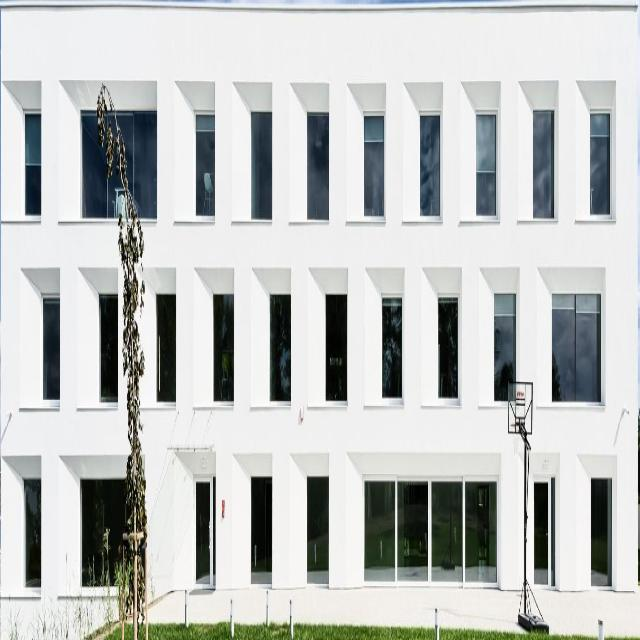door: (194, 475, 218, 591), (533, 477, 556, 591)
plant: (109, 96, 146, 619)
wall: (0, 1, 640, 639)
windows: (363, 472, 498, 584), (80, 110, 158, 222), (552, 292, 602, 403), (81, 481, 125, 584), (307, 111, 329, 217), (494, 290, 516, 396), (533, 108, 554, 219), (213, 292, 234, 402), (156, 292, 177, 400), (252, 109, 272, 222), (270, 294, 291, 400), (326, 294, 347, 400), (364, 113, 384, 223), (98, 291, 118, 400), (589, 114, 611, 213), (307, 478, 330, 572), (251, 476, 273, 574), (195, 107, 214, 217), (477, 113, 497, 215), (24, 109, 42, 222), (382, 302, 402, 401), (421, 112, 440, 215), (439, 297, 458, 398), (25, 478, 42, 587), (44, 298, 60, 402), (593, 482, 609, 574)
